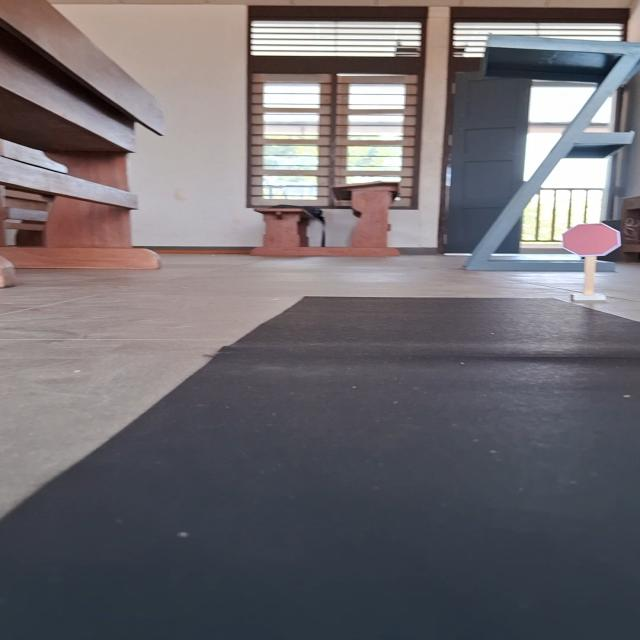Stop: (559, 223, 623, 257)
